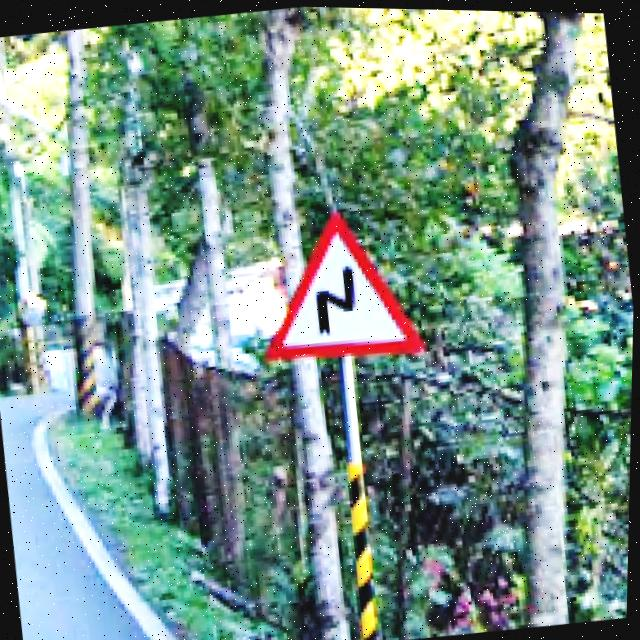doublebendright: (263, 203, 433, 357)
